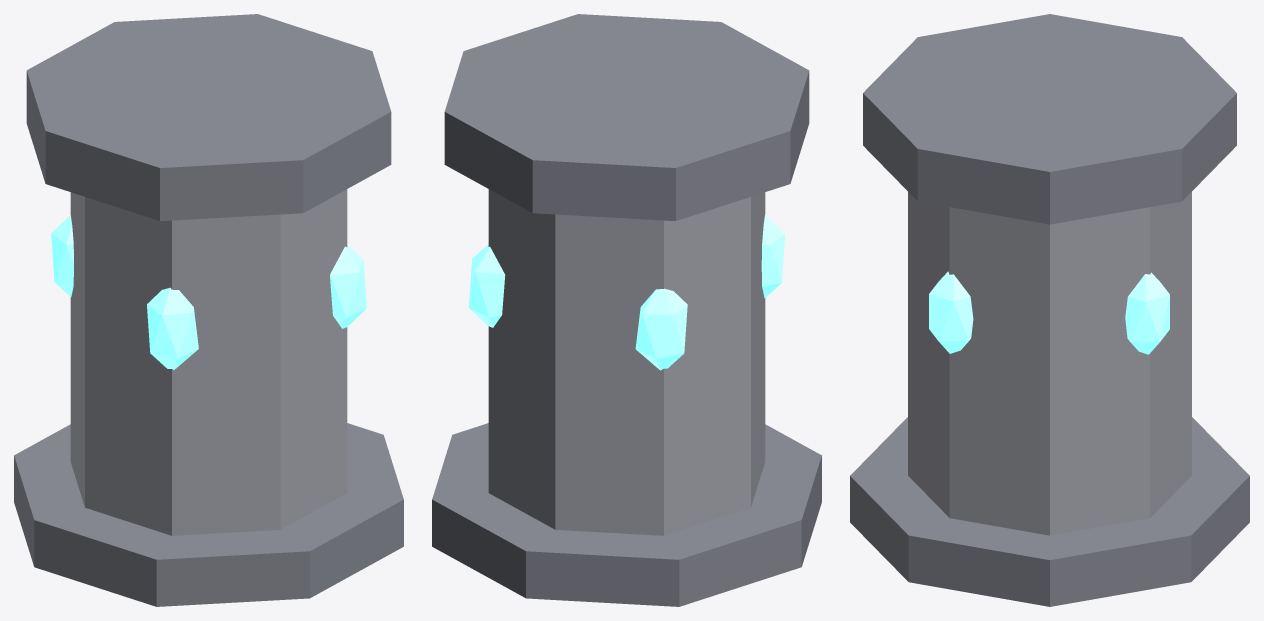
The model's file is pedestal.glb.
3 views of the same model, side by side, from view 1: azimuth 30°, elevation 25°; view 2: azimuth 150°, elevation 25°; view 3: azimuth 270°, elevation 25° (orthographic).
Visible parts, largest first — view 1: PedestalFoot; view 2: PedestalFoot; view 3: PedestalFoot.
Part boxes in pixels (x1,y1,x2,y2): PedestalFoot: (14, 14, 403, 606); PedestalFoot: (432, 14, 821, 606); PedestalFoot: (850, 14, 1249, 606).
Size of the model in its own units: 1.24 by 1.47 by 1.24.
